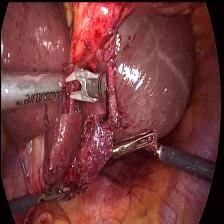Clipper: (61, 61, 104, 113)
Grasper: (112, 128, 156, 158), (38, 173, 75, 208)
